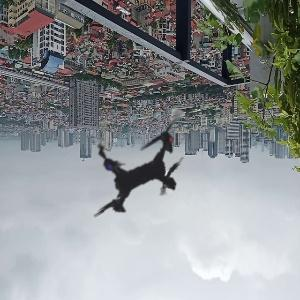drone: (41, 68, 243, 270)
